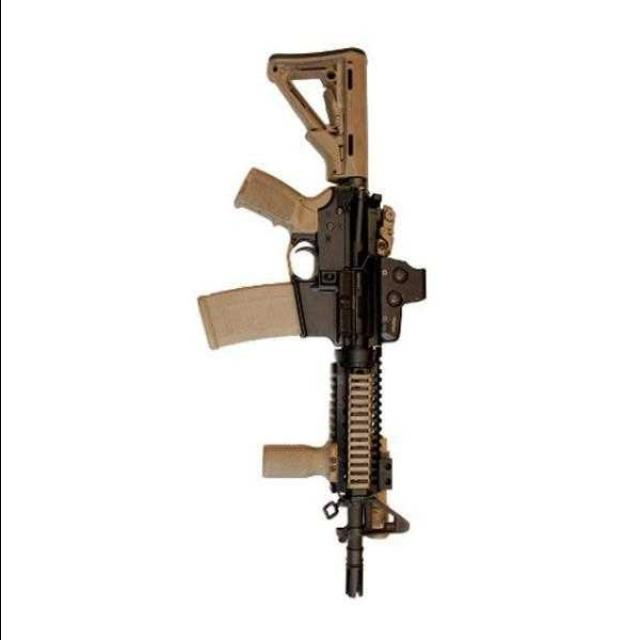heavyweapon: (166, 31, 504, 609)
